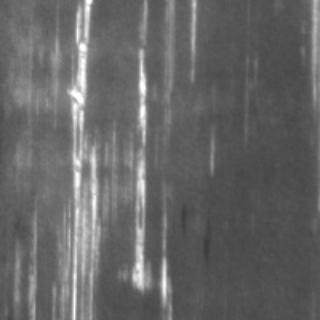scratches: (53, 1, 97, 316), (121, 43, 170, 297)
